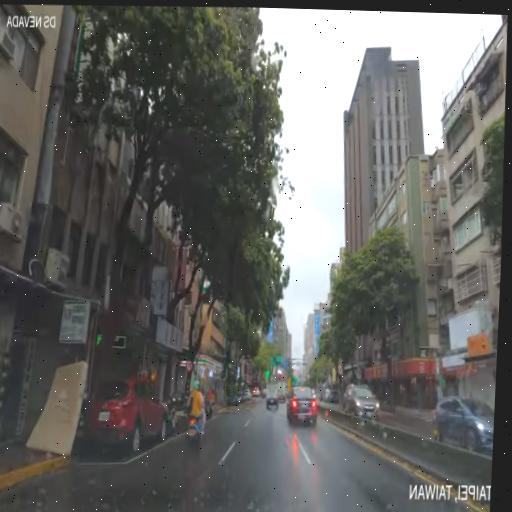Car: (80, 371, 177, 460), (429, 390, 495, 458), (341, 385, 381, 423), (286, 384, 318, 427), (264, 378, 282, 414), (275, 379, 287, 404), (243, 387, 254, 402), (329, 389, 340, 404), (321, 388, 332, 402), (252, 385, 261, 399), (311, 387, 316, 395)
